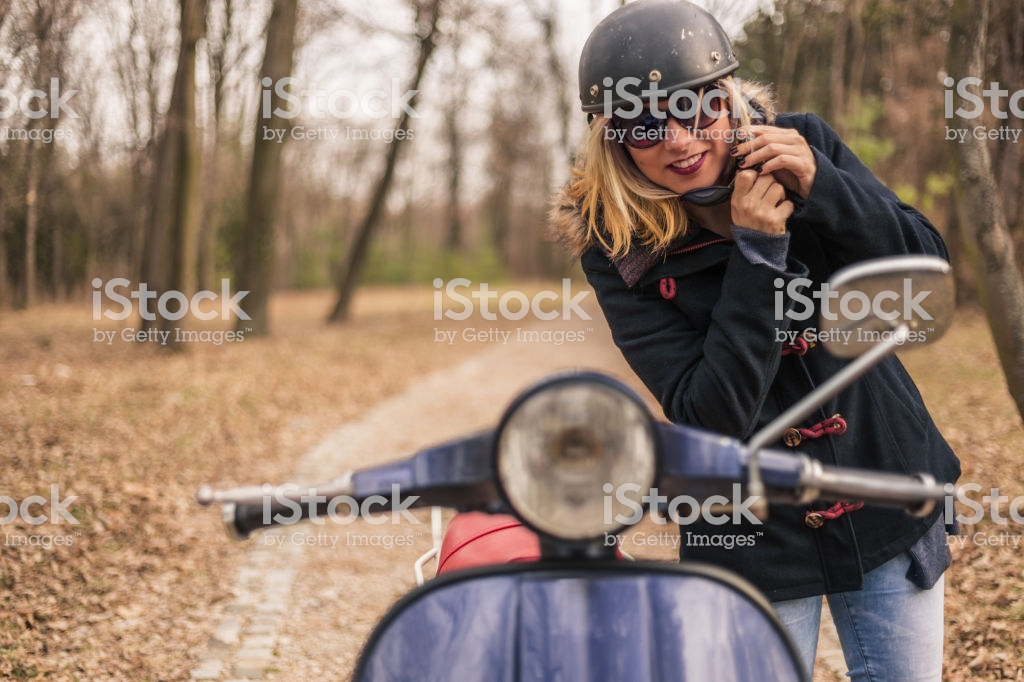helmet: (565, 2, 756, 99)
